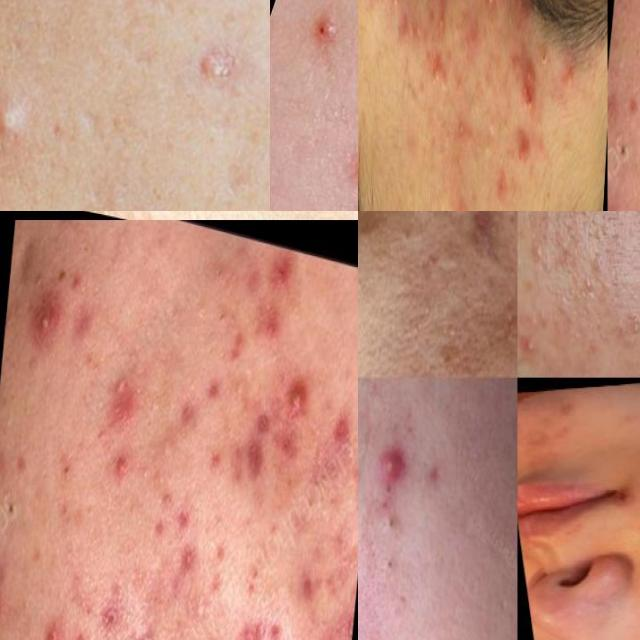acne_scars: (97, 345, 155, 451), (302, 575, 355, 640), (226, 601, 284, 640), (518, 424, 579, 454), (460, 211, 517, 242), (547, 398, 584, 422)
comedone: (482, 98, 499, 173), (371, 546, 402, 587), (518, 324, 544, 363), (373, 503, 405, 534), (626, 298, 640, 354), (208, 295, 230, 327), (500, 100, 513, 143), (359, 623, 391, 640)
folliculitis: (434, 9, 452, 45), (454, 112, 470, 150)
papule: (231, 396, 282, 502), (27, 590, 64, 640), (515, 111, 533, 180), (108, 443, 135, 485), (250, 307, 280, 341), (271, 253, 295, 291), (425, 457, 447, 493)
pustule: (369, 440, 411, 500), (279, 367, 319, 423), (0, 92, 33, 158), (25, 299, 56, 344), (563, 58, 578, 104), (387, 0, 403, 23)
sebo-crystan-conglo: (518, 44, 542, 106)
